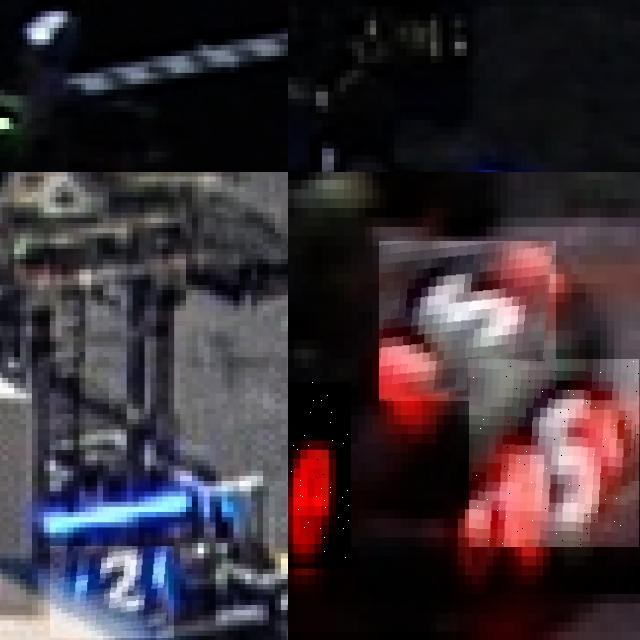B2: (50, 546, 174, 638)
R5: (469, 359, 639, 547), (380, 241, 558, 401), (288, 382, 351, 570)
